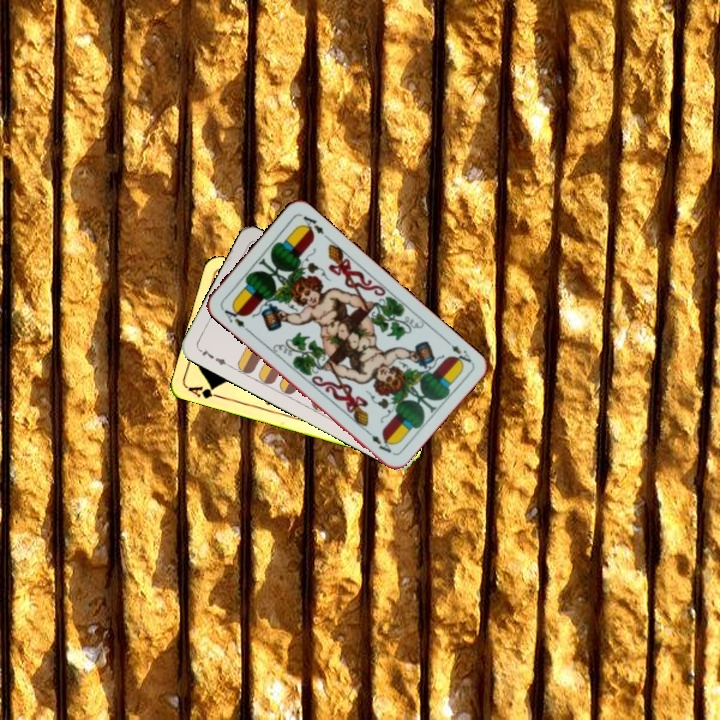E7: (195, 344, 232, 369)
EA: (441, 335, 474, 369), (217, 302, 252, 334)
GA: (184, 382, 224, 401)
